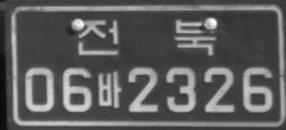0: (25, 66, 54, 112)
2: (127, 66, 159, 113), (203, 67, 235, 113)
3: (165, 66, 197, 112)
6: (241, 66, 273, 113), (61, 67, 92, 112)
바: (98, 70, 122, 108)
전북_D: (77, 19, 216, 55)
